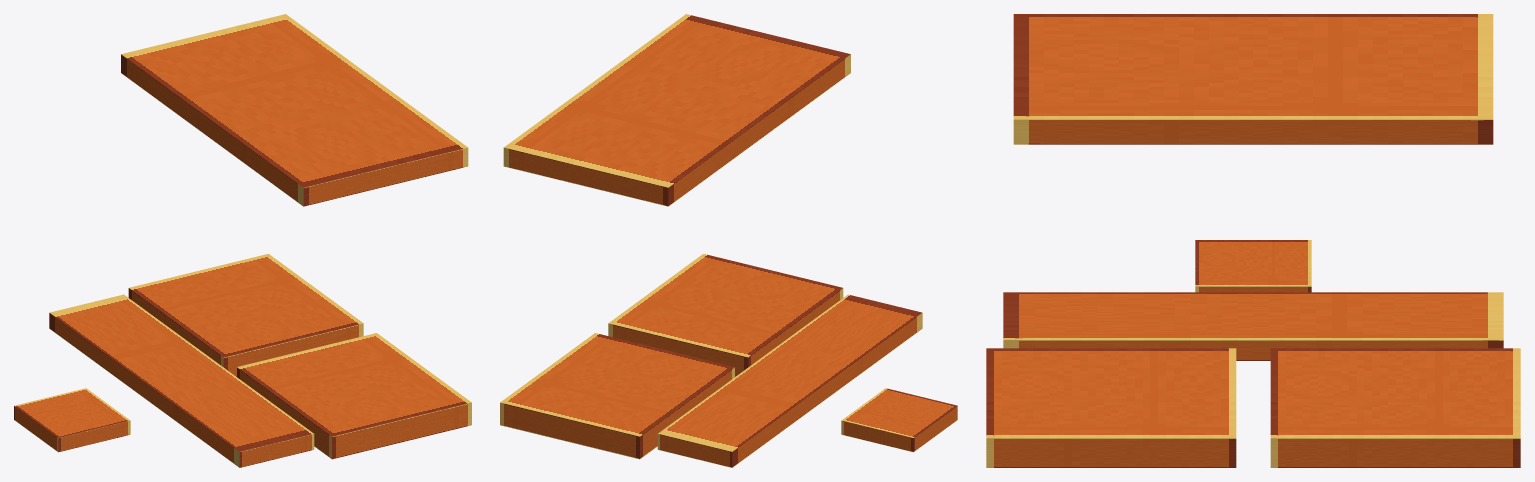
Rendered from bench_chestplate_1_hot.obj.
The picture shows the model from 3 angles, left to right: view 1: azimuth 30°, elevation 25°; view 2: azimuth 150°, elevation 25°; view 3: azimuth 270°, elevation 25°; orthographic projection. The views are drawn at different scales.
Visible parts, largest first — view 1: geometry; view 2: geometry; view 3: geometry.
Part boxes in pixels (box(x1,y1,x2,y2)): geometry: box(14, 14, 471, 467); geometry: box(500, 14, 957, 467); geometry: box(986, 14, 1520, 467).
Bounding box in the file's own units: 0.3277 × 0.25 × 0.3385.
